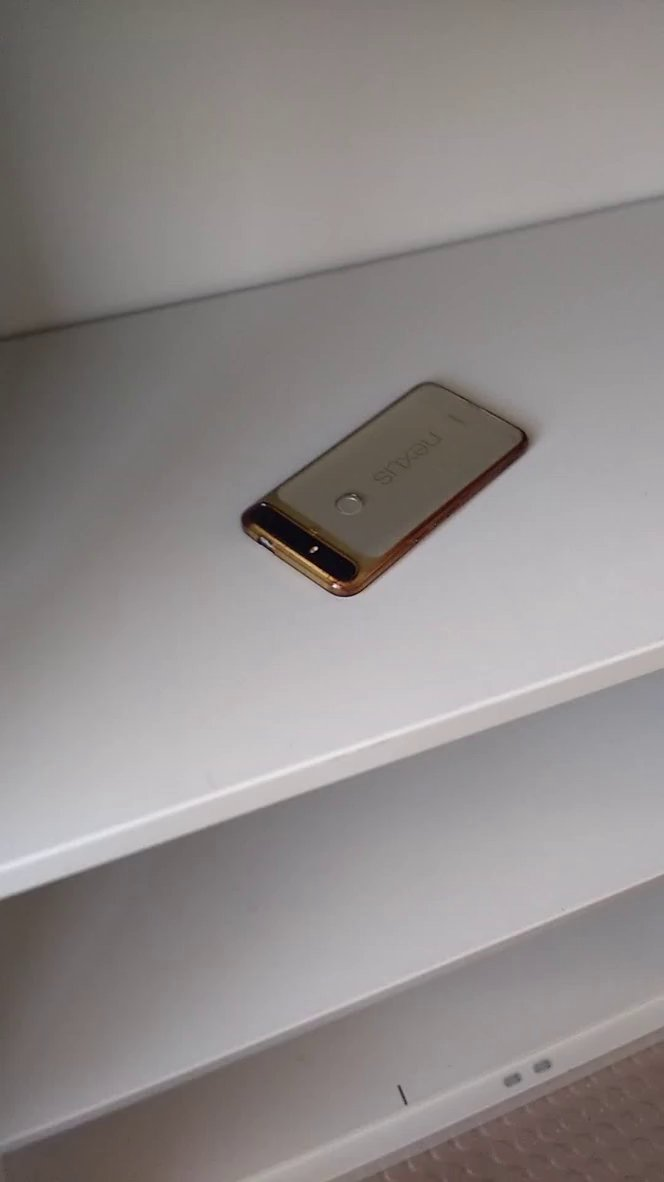phone: (209, 350, 542, 612)
